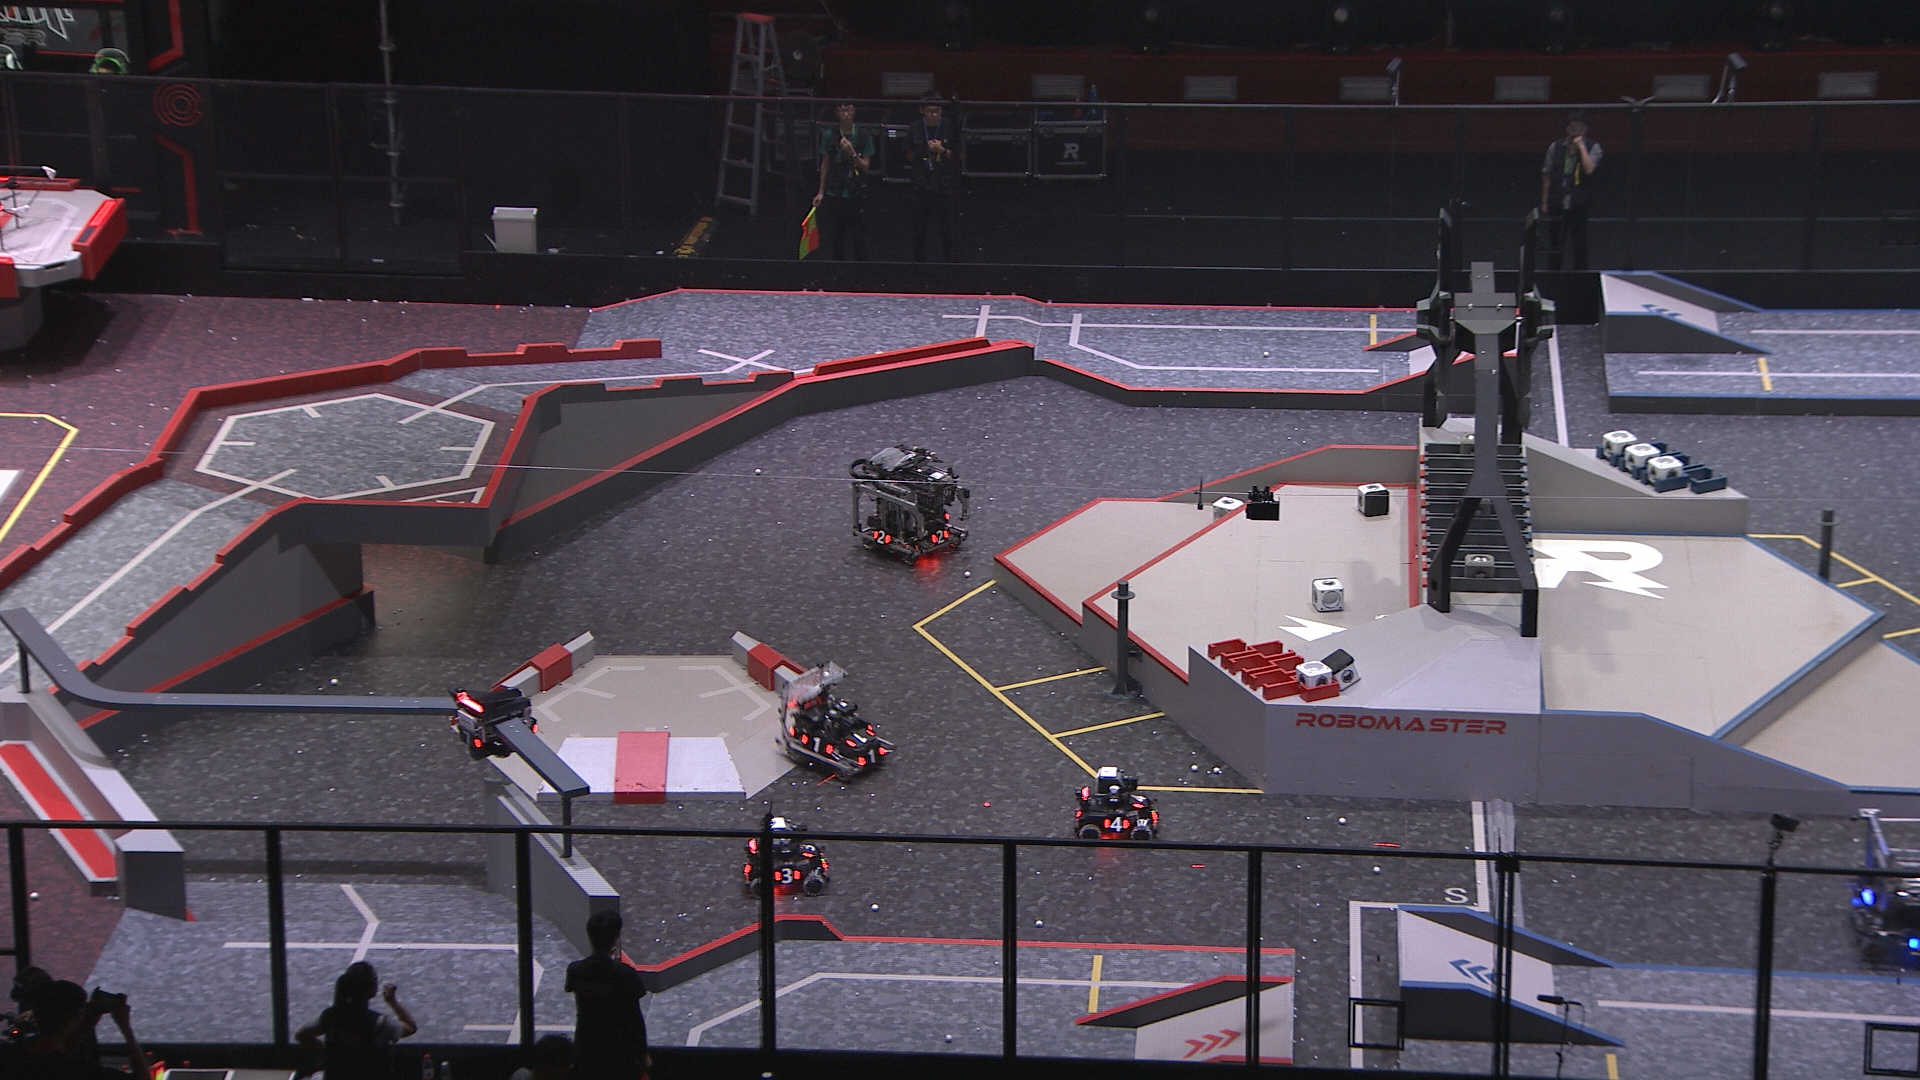armor: (798, 732, 835, 756), (455, 727, 484, 750), (856, 746, 885, 767), (773, 868, 802, 887), (1102, 816, 1131, 835), (843, 731, 873, 746), (870, 527, 894, 546), (928, 529, 951, 547), (1129, 793, 1149, 811), (796, 841, 818, 858), (1147, 808, 1162, 825)
car: (849, 443, 972, 567), (774, 659, 895, 783), (1846, 804, 1920, 968), (1073, 764, 1166, 847), (737, 816, 829, 898)
watcher: (448, 683, 539, 764)
